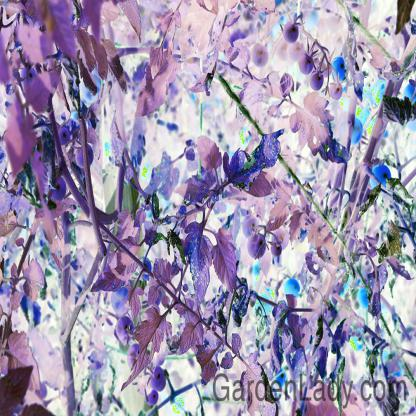tomato early blight leaf: (221, 128, 286, 193), (290, 95, 347, 163), (137, 57, 177, 118), (184, 222, 213, 303), (93, 257, 143, 293), (147, 155, 179, 198), (175, 175, 212, 202)
tomato leaf: (210, 229, 239, 293)
